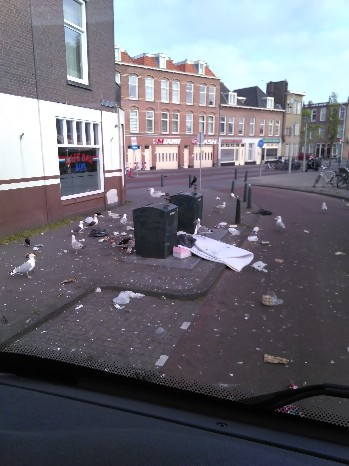Container: (136, 196, 176, 259), (180, 188, 207, 230)
Rest: (178, 234, 240, 270)
